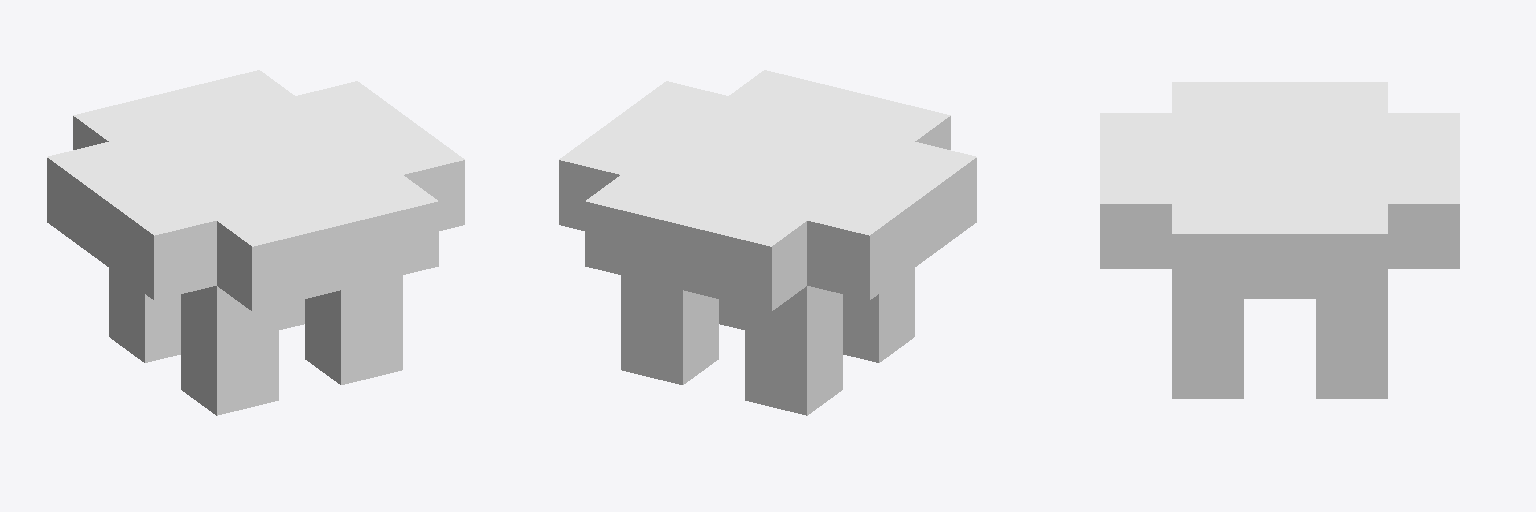
Rendered from house_heya_isu.obj.
3 views of the same model, side by side, from view 1: azimuth 30°, elevation 25°; view 2: azimuth 150°, elevation 25°; view 3: azimuth 270°, elevation 25° (orthographic).
Size of the model in its own units: 5 by 3 by 5.